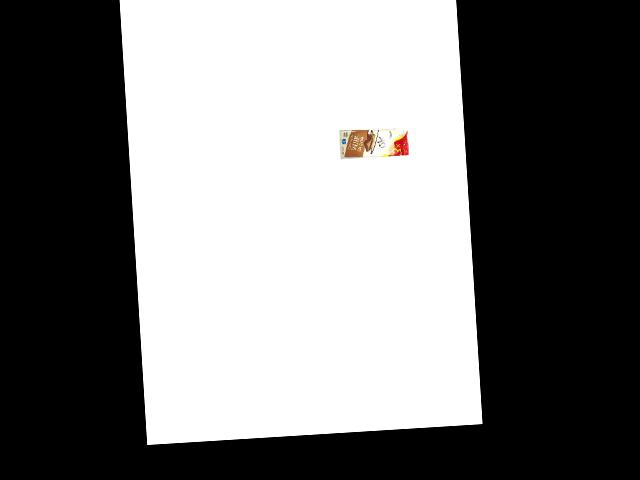chocolate: (340, 124, 410, 161)
